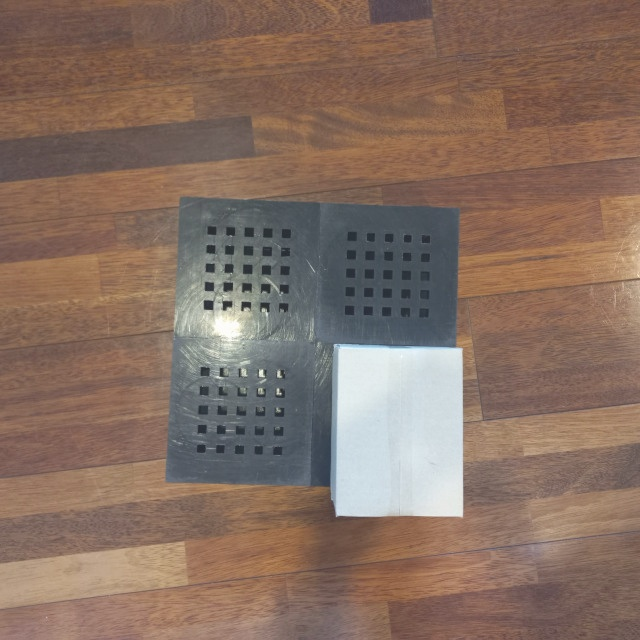box: (331, 345, 465, 519)
pallet: (162, 187, 463, 498)
